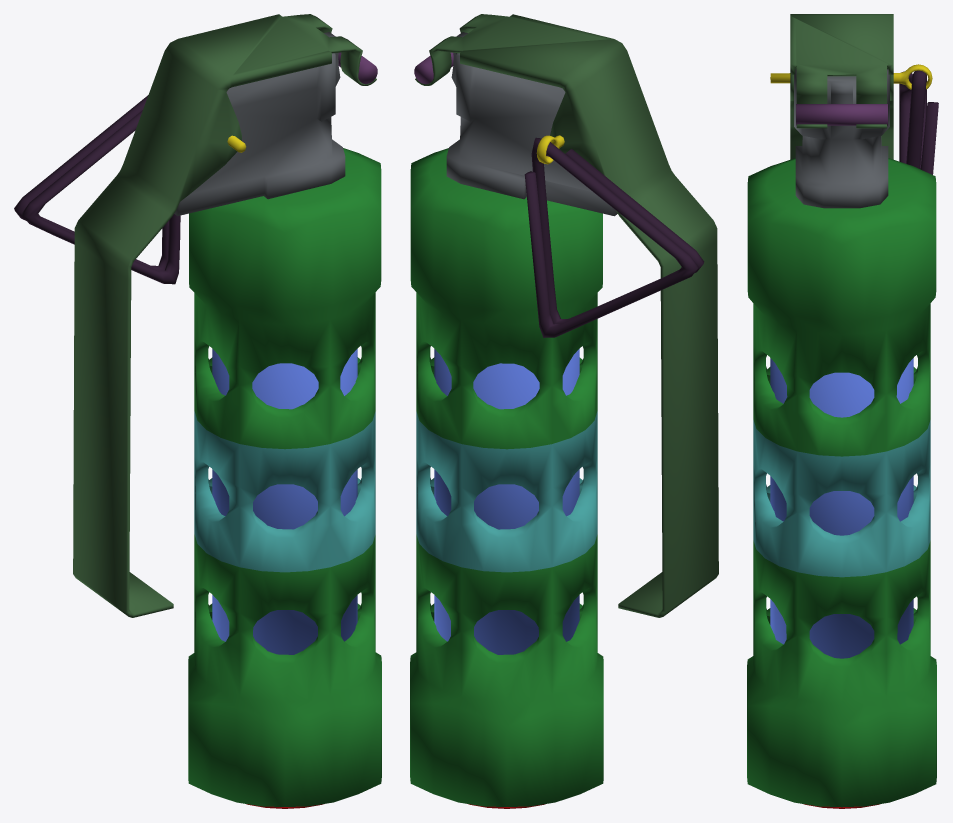
3 views of the same model, side by side, from view 1: azimuth 30°, elevation 25°; view 2: azimuth 150°, elevation 25°; view 3: azimuth 270°, elevation 25° (orthographic). The views are drawn at different scales.
Visible parts, largest first — view 1: Circle.003; view 2: Circle.003; view 3: Circle.003.
Part boxes in pixels (x1,y1,x2,y2): Circle.003: [14, 14, 381, 808]; Circle.003: [410, 14, 718, 808]; Circle.003: [747, 14, 938, 808].
Bounding box in the file's own units: 159 × 345 × 82.73.
